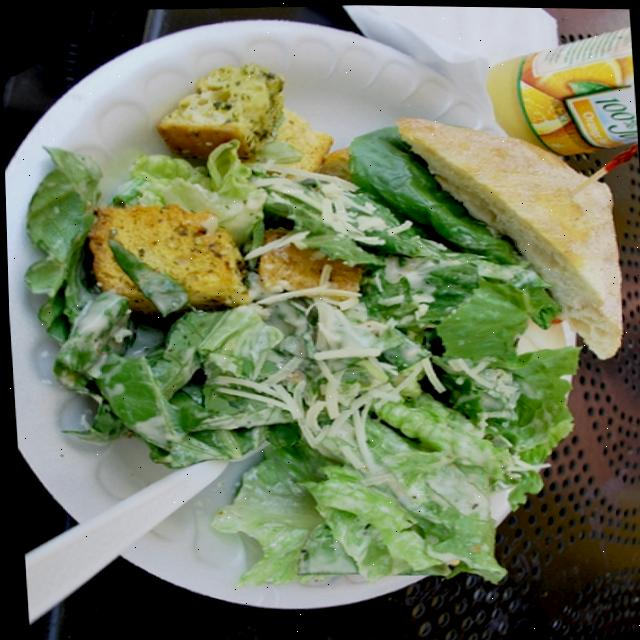蔬菜料理: (0, 0, 621, 618)
